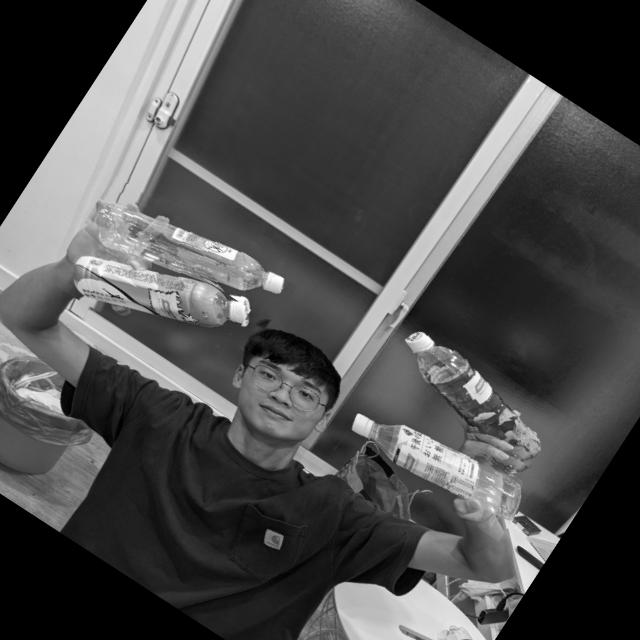plastic bottle: (83, 170, 297, 339), (372, 316, 576, 486), (52, 210, 250, 382), (344, 385, 535, 542)
